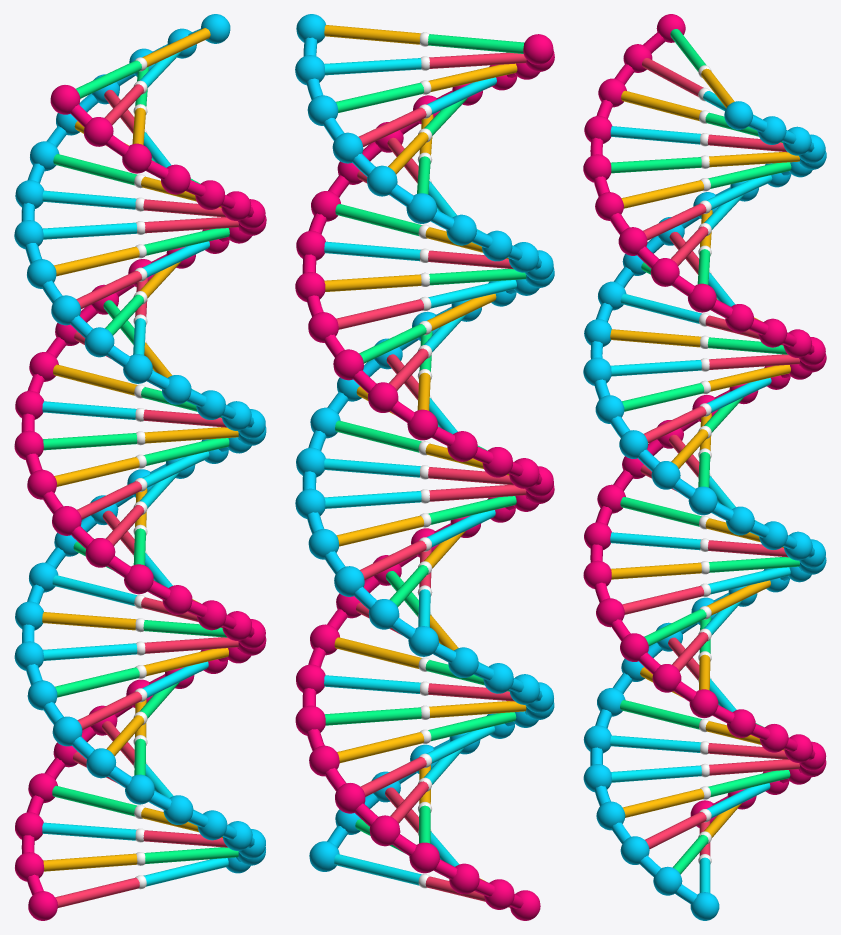
Rendered from dna.glb.
The picture shows the model from 3 angles, left to right: view 1: azimuth 30°, elevation 25°; view 2: azimuth 150°, elevation 25°; view 3: azimuth 270°, elevation 25°; orthographic projection. The views are drawn at different scales.
Visible parts, largest first — view 1: DNA_Double_Helix, BasePair_10_A, BasePair_11_C, BasePair_28_A, BasePair_2_A, BasePair_29_A, BasePair_1_C, BasePair_20_A, BasePair_19_G, BasePair_1_G, BasePair_10_T, BasePair_28_T (+29 smaller); view 2: DNA_Double_Helix, BasePair_34_A, BasePair_25_C, BasePair_7_G, BasePair_16_A, BasePair_8_A, BasePair_17_A, BasePair_26_A, BasePair_35_C, BasePair_35_G, BasePair_34_T, BasePair_7_C (+29 smaller); view 3: DNA_Double_Helix, BasePair_13_C, BasePair_5_A, BasePair_22_A, BasePair_4_A, BasePair_31_G, BasePair_14_A, BasePair_23_C, BasePair_32_A, BasePair_4_T, BasePair_13_G, BasePair_22_T (+30 smaller).
Part boxes in pixels (x1,y1,x2,y2): DNA_Double_Helix: (14,14,266,920); BasePair_10_A: (43,643,137,660); BasePair_11_C: (42,612,136,630); BasePair_28_A: (43,222,137,239); BasePair_2_A: (42,822,136,840); BasePair_29_A: (42,190,136,209); BasePair_1_C: (43,853,137,871); BasePair_20_A: (42,401,136,419); BasePair_19_G: (43,433,137,450); BasePair_1_G: (144,847,238,863); BasePair_10_T: (144,637,238,653); BasePair_28_T: (144,217,238,233); DNA_Double_Helix: (295,14,554,920); BasePair_34_A: (324,58,421,75); BasePair_25_C: (324,274,421,291); BasePair_7_G: (324,707,421,725); BasePair_16_A: (324,491,421,508); BasePair_8_A: (324,675,420,693); BasePair_17_A: (324,458,420,477); BasePair_26_A: (324,241,420,261); BasePair_35_C: (324,25,420,44); BasePair_35_G: (428,34,524,53); BasePair_34_T: (429,52,526,68); BasePair_7_C: (429,701,526,718); DNA_Double_Helix: (583,14,826,920); BasePair_13_C: (611,562,701,579); BasePair_5_A: (610,735,700,752); BasePair_22_A: (611,360,701,376); BasePair_4_A: (611,765,701,782); BasePair_31_G: (611,157,701,173); BasePair_14_A: (610,532,700,550); BasePair_23_C: (610,329,700,347); BasePair_32_A: (610,126,700,144); BasePair_4_T: (709,759,799,775); BasePair_13_G: (709,557,799,572); BasePair_22_T: (709,354,799,369).
Size of the model in its own units: 5.44 by 19.89 by 5.39.
